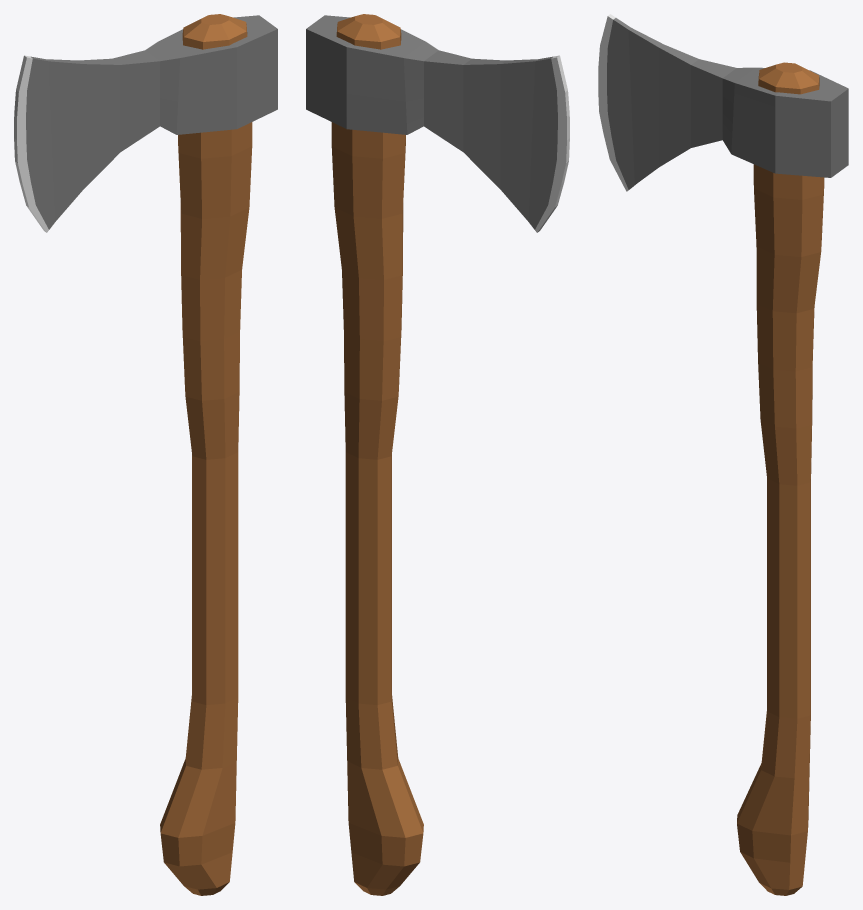
Rendered from metalaxe.fbx.
The picture shows the model from 3 angles, left to right: view 1: azimuth 30°, elevation 25°; view 2: azimuth 150°, elevation 25°; view 3: azimuth 330°, elevation 25°; orthographic projection. The views are drawn at different scales.
Parts seen in each view (by area): view 1: Plane; view 2: Plane; view 3: Plane.
Part boxes in pixels (<box>): Plane: <box>14,14,277,895</box>; Plane: <box>306,14,569,895</box>; Plane: <box>598,14,848,895</box>.
Bounding box in the file's own units: 1390 × 4606 × 349.
